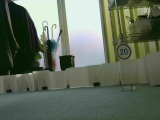speed_20: (113, 43, 133, 60)
